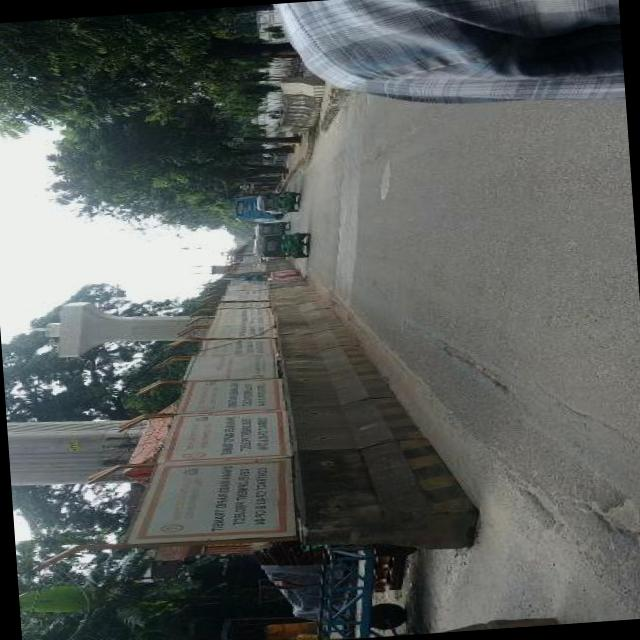bus: (232, 212, 280, 222)
motorcycle: (250, 228, 312, 260), (252, 186, 298, 212), (252, 219, 290, 232)
